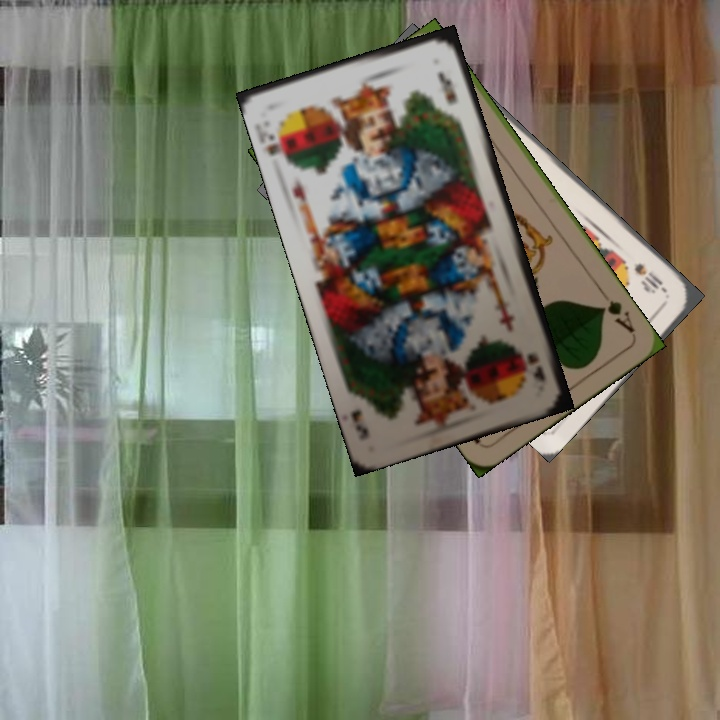GA: (596, 286, 638, 336)
S10: (629, 258, 670, 296)
SK: (261, 117, 293, 165), (523, 350, 548, 385)
